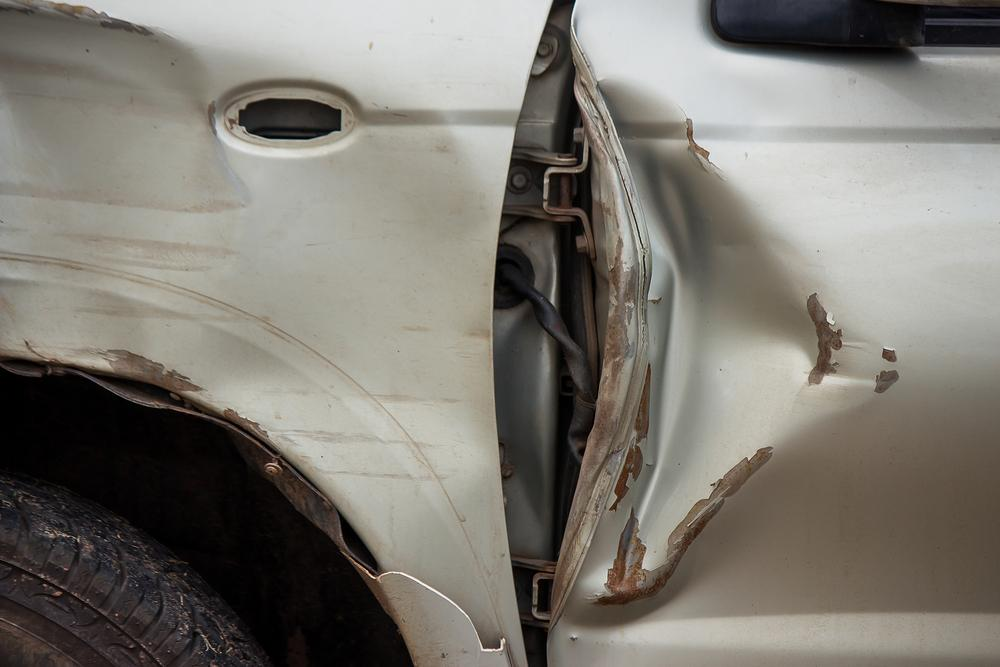dent: (0, 0, 499, 504), (580, 82, 886, 596)
